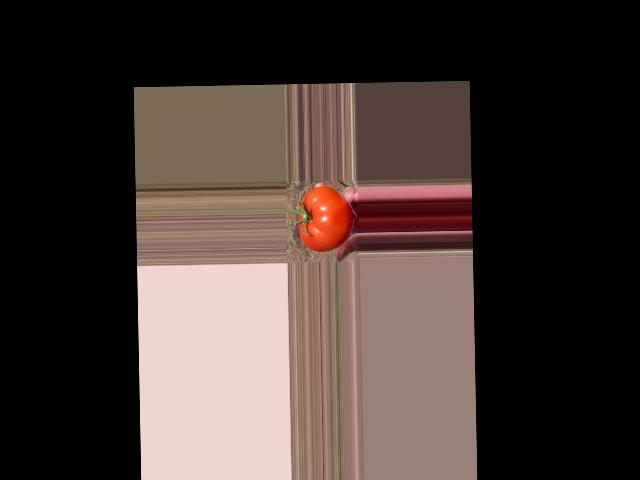tomato: (297, 185, 354, 252)
